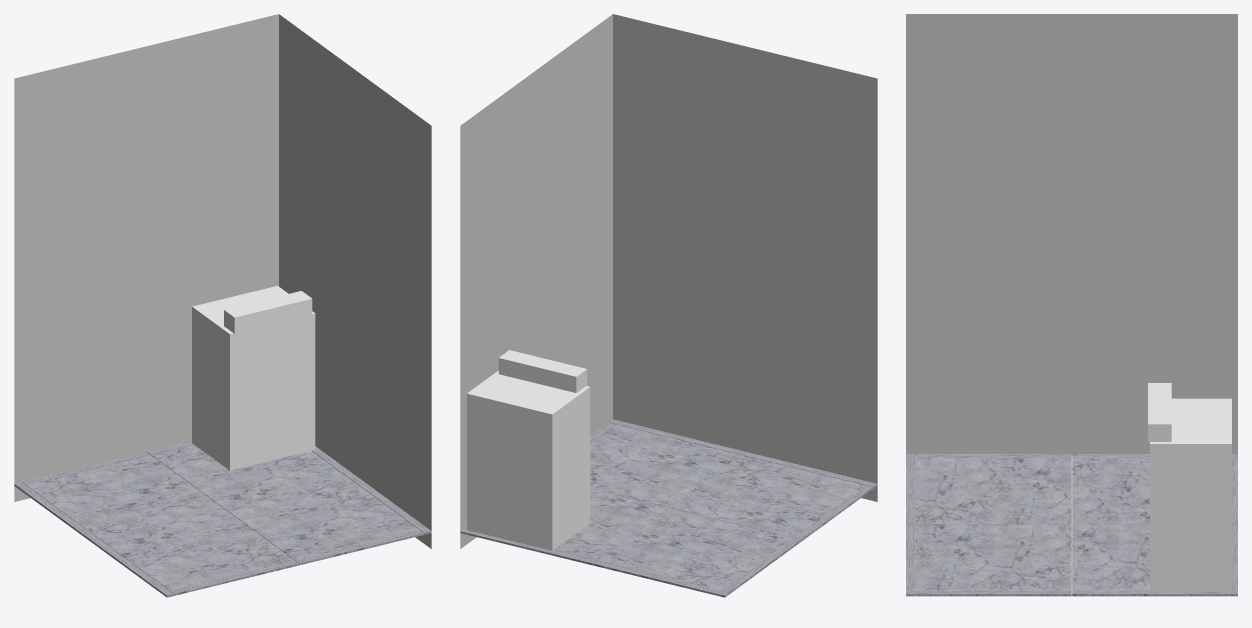
File: sanuzel.glb
The picture shows the model from 3 angles, left to right: view 1: azimuth 30°, elevation 25°; view 2: azimuth 150°, elevation 25°; view 3: azimuth 270°, elevation 25°; orthographic projection. The views are drawn at different scales.
Visible parts, largest first — view 1: Wall.002, Wall.001, Cube, Plane.010, Plane.007, Plane.006, Plane.011, Cube.001, Plane.002, Plane.003, Plane.009, Plane.005 (+2 smaller); view 2: Wall, Wall.001, Cube, Plane.006, Plane.010, Plane.007, Plane.011, Cube.001, Plane.014, Plane.015, Plane.005, Plane.009 (+2 smaller); view 3: Wall.003, Cube, Plane.006, Plane.007, Plane.010, Plane.011, Cube.001, Plane.008, Plane.012, Plane.002, Plane.003, Plane.005.
Part boxes in pixels (box(x1,y1,x2,y2)): Wall.002: box(14, 14, 278, 501); Wall.001: box(279, 14, 431, 548); Cube: box(192, 285, 315, 470); Plane.010: box(26, 455, 222, 538); Plane.007: box(223, 477, 419, 560); Plane.006: box(98, 508, 294, 590); Plane.011: box(151, 444, 346, 507); Cube.001: box(224, 291, 312, 333); Plane.002: box(171, 560, 299, 595); Plane.003: box(295, 530, 423, 565); Plane.009: box(18, 485, 97, 541); Plane.005: box(90, 538, 169, 594); Wall: box(613, 14, 877, 501); Wall.001: box(460, 14, 612, 548); Cube: box(467, 370, 590, 550); Plane.006: box(669, 455, 865, 538); Plane.010: box(597, 508, 793, 590); Plane.007: box(590, 424, 740, 507); Plane.011: box(554, 488, 668, 560); Cube.001: box(498, 350, 587, 392); Plane.014: box(592, 560, 720, 595); Plane.015: box(468, 531, 596, 565); Plane.005: box(794, 485, 873, 541); Plane.009: box(722, 538, 801, 594); Wall.003: box(906, 14, 1237, 455); Cube: box(1150, 398, 1231, 593); Plane.006: box(915, 458, 1071, 524); Plane.007: box(915, 524, 1071, 590); Plane.010: box(1072, 458, 1149, 524); Plane.011: box(1072, 524, 1149, 590); Cube.001: box(1148, 383, 1171, 441); Plane.008: box(915, 590, 1071, 596); Plane.012: box(1072, 590, 1228, 596); Plane.002: box(906, 458, 915, 524); Plane.003: box(906, 524, 915, 590); Plane.005: box(915, 454, 1071, 457).
Size of the model in its own units: 1.7 by 2.6 by 1.7.
Materials: 4 (1 with a texture image).
